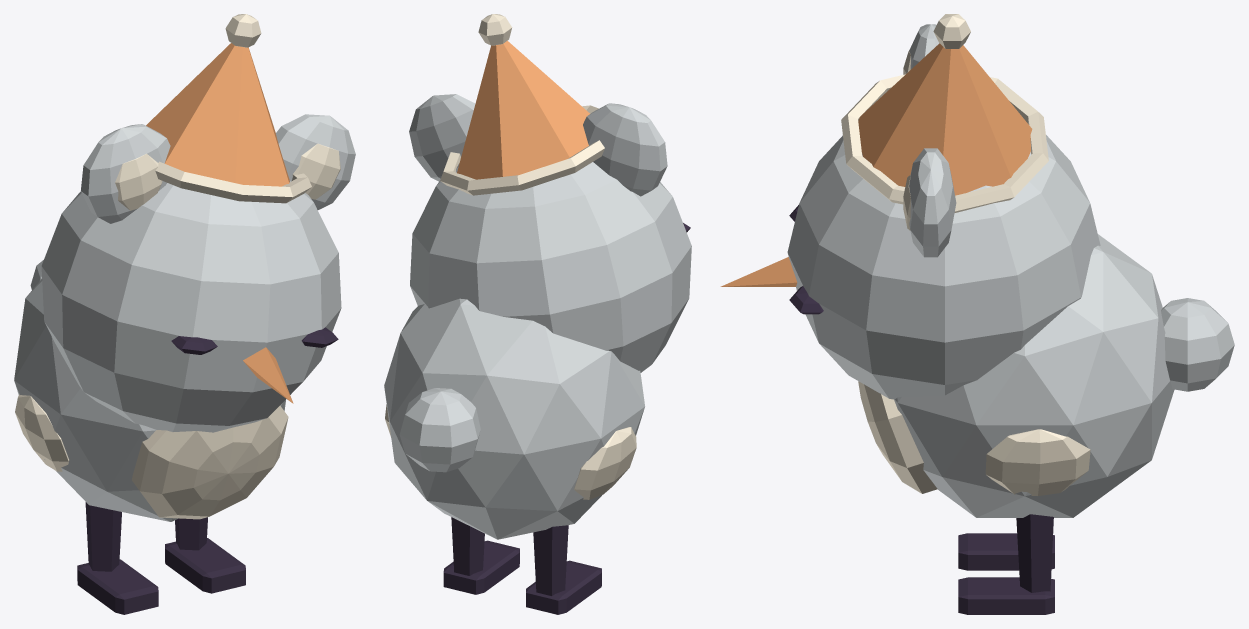
The model's file is bird-graveyard-1.glb.
The picture shows the model from 3 angles, left to right: view 1: azimuth 30°, elevation 25°; view 2: azimuth 150°, elevation 25°; view 3: azimuth 270°, elevation 25°; orthographic projection. The views are drawn at different scales.
Visible parts, largest first — view 1: bird-graveyard-1; view 2: bird-graveyard-1; view 3: bird-graveyard-1.
Boxes of the visible parts, box(x1,y1,x2,y2) form: bird-graveyard-1: box(14, 14, 355, 614); bird-graveyard-1: box(384, 14, 691, 614); bird-graveyard-1: box(720, 14, 1234, 614).
Bounding box in the file's own units: 0.464 × 0.9 × 0.7028.
